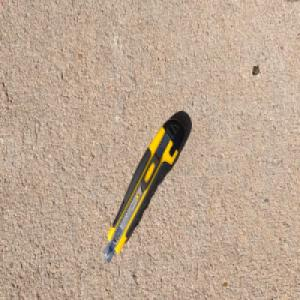Cutter: (103, 115, 188, 266)
